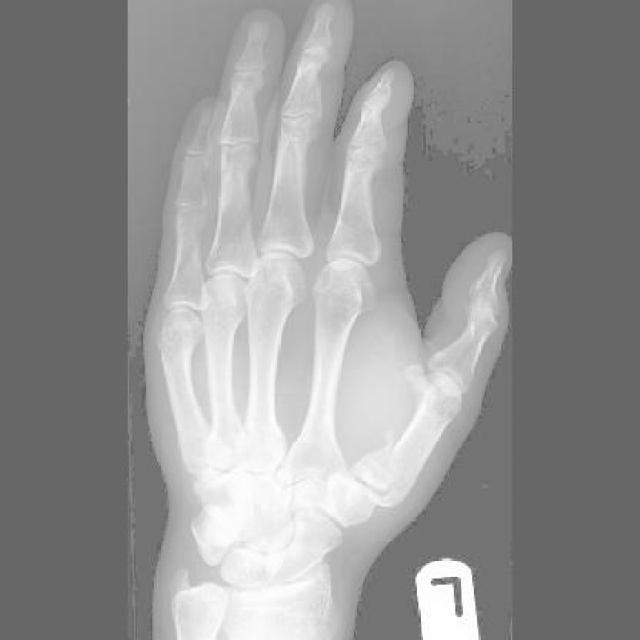Fracture: (349, 449, 414, 514)
